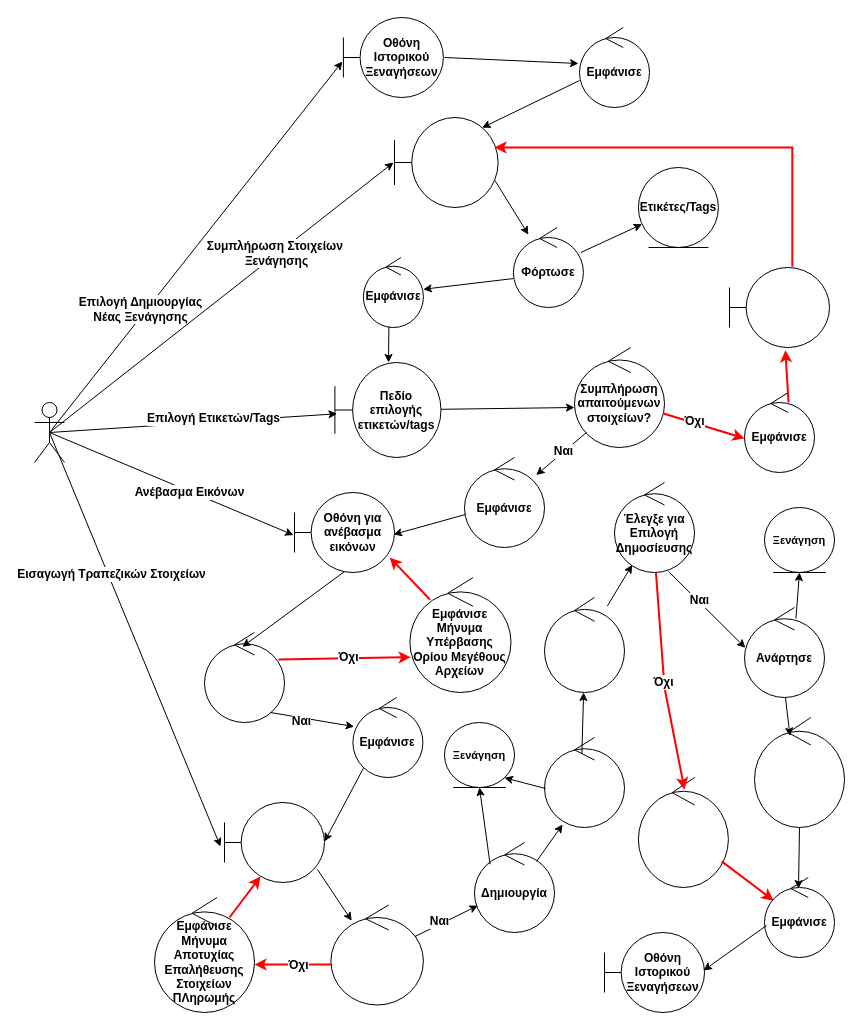
Some shapes in this 863 by 1030 pixel diagram are drawn without their labels. The shapes that lost their labels are listed below. From the top down, each one's box as (x1, y1, x2, y2) in pixels, then its label:
(394, 116, 498, 208): Οθόνη συμπλήρωσης στοιχείων ξενάγησης
(728, 266, 830, 348): Μήνυμα Αποτυχίας
(34, 402, 64, 462): Ξεναγός
(544, 596, 624, 692): Εμφάνισε Μύνημα για Δημοσίευση
(204, 632, 284, 722): Μέγεθος αρχείων εντός ορίων?
(544, 736, 624, 828): Αποθήκευση
(754, 716, 844, 828): Εμφάνισε Μήνυμα Επιτυχούς Δημοσίευσης
(224, 802, 324, 882): Οθόνη Εισαγωγής Τρόπου Πληρωμής
(637, 776, 728, 888): Εμφάνισε Μήνυμα Επιτυχούς Αποθήκευσης
(330, 904, 423, 1005): Στοιχεία Πληρωμής Έγκυρα?
